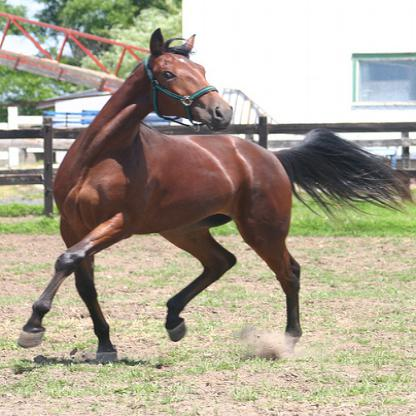horse: (15, 28, 415, 364)
